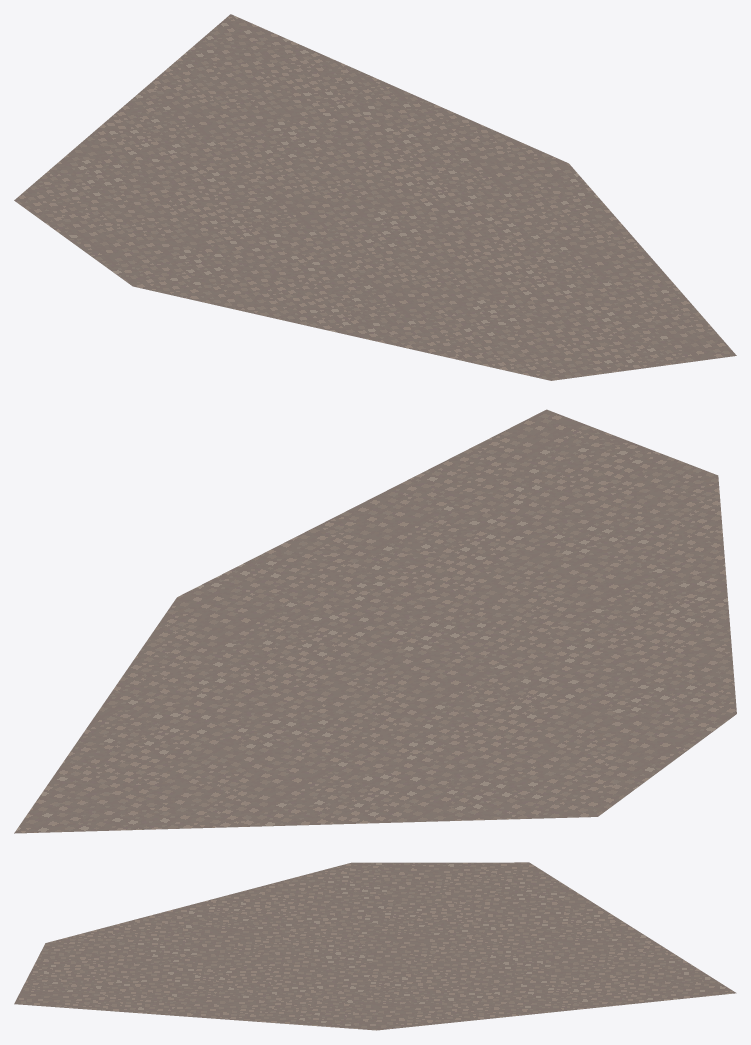
Rendered from kd_connection_world-inner_surface_16_20.glb.
3 renders of one model, top to bottom at view 1: azimuth 30°, elevation 25°; view 2: azimuth 150°, elevation 25°; view 3: azimuth 270°, elevation 25°, orthographic. The views are drawn at different scales.
Parts seen in each view (by area): view 1: kd_connection_world-inner_surface_16_20; view 2: kd_connection_world-inner_surface_16_20; view 3: kd_connection_world-inner_surface_16_20.
Boxes of the visible parts, bbox=[...] form: kd_connection_world-inner_surface_16_20: bbox=[14, 14, 736, 380]; kd_connection_world-inner_surface_16_20: bbox=[14, 409, 736, 833]; kd_connection_world-inner_surface_16_20: bbox=[14, 862, 736, 1030].
Bounding box in the file's own units: 15.24 × 0 × 27.7.
1 material, 1 textured.
